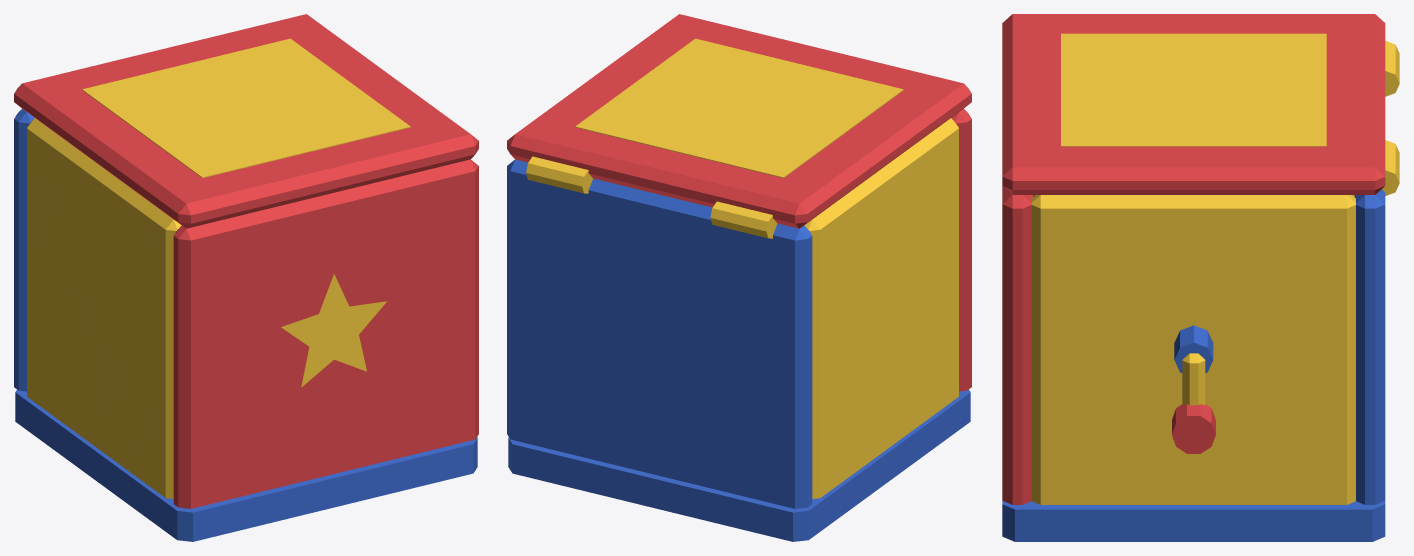
File: jack_box.glb
The picture shows the model from 3 angles, left to right: view 1: azimuth 30°, elevation 25°; view 2: azimuth 150°, elevation 25°; view 3: azimuth 270°, elevation 25°; orthographic projection. The views are drawn at different scales.
Parts seen in each view (by area): view 1: jack_box_Red, jack_box_Yellow, Lid_Red, Lid_Yellow, jack_box_Blue; view 2: jack_box_Blue, jack_box_Yellow, Lid_Red, Lid_Yellow, jack_box_Red; view 3: jack_box_Yellow, Lid_Red, Lid_Yellow, jack_box_Blue, jack_box_Red, Crank_Red, Crank_Blue, Crank_Yellow.
Boxes of the visible parts, x1=… form: jack_box_Red: x1=173, y1=159, x2=478, y2=508; jack_box_Yellow: x1=27, y1=118, x2=386, y2=498; Lid_Red: x1=14, y1=14, x2=478, y2=228; Lid_Yellow: x1=82, y1=38, x2=410, y2=178; jack_box_Blue: x1=14, y1=109, x2=477, y2=541; jack_box_Blue: x1=507, y1=159, x2=970, y2=541; jack_box_Yellow: x1=804, y1=118, x2=958, y2=498; Lid_Red: x1=507, y1=14, x2=971, y2=228; Lid_Yellow: x1=526, y1=38, x2=903, y2=238; jack_box_Red: x1=951, y1=109, x2=971, y2=391; jack_box_Yellow: x1=1031, y1=195, x2=1355, y2=504; Lid_Red: x1=1002, y1=14, x2=1385, y2=194; Lid_Yellow: x1=1061, y1=33, x2=1399, y2=195; jack_box_Blue: x1=1002, y1=189, x2=1385, y2=541; jack_box_Red: x1=1002, y1=186, x2=1032, y2=504; Crank_Red: x1=1172, y1=404, x2=1215, y2=453; Crank_Blue: x1=1174, y1=325, x2=1213, y2=373; Crank_Yellow: x1=1182, y1=353, x2=1205, y2=405.
Bounding box in the file's own units: 0.898 × 0.802 × 0.782.
